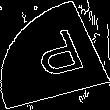P_S: (22, 25, 88, 85)
